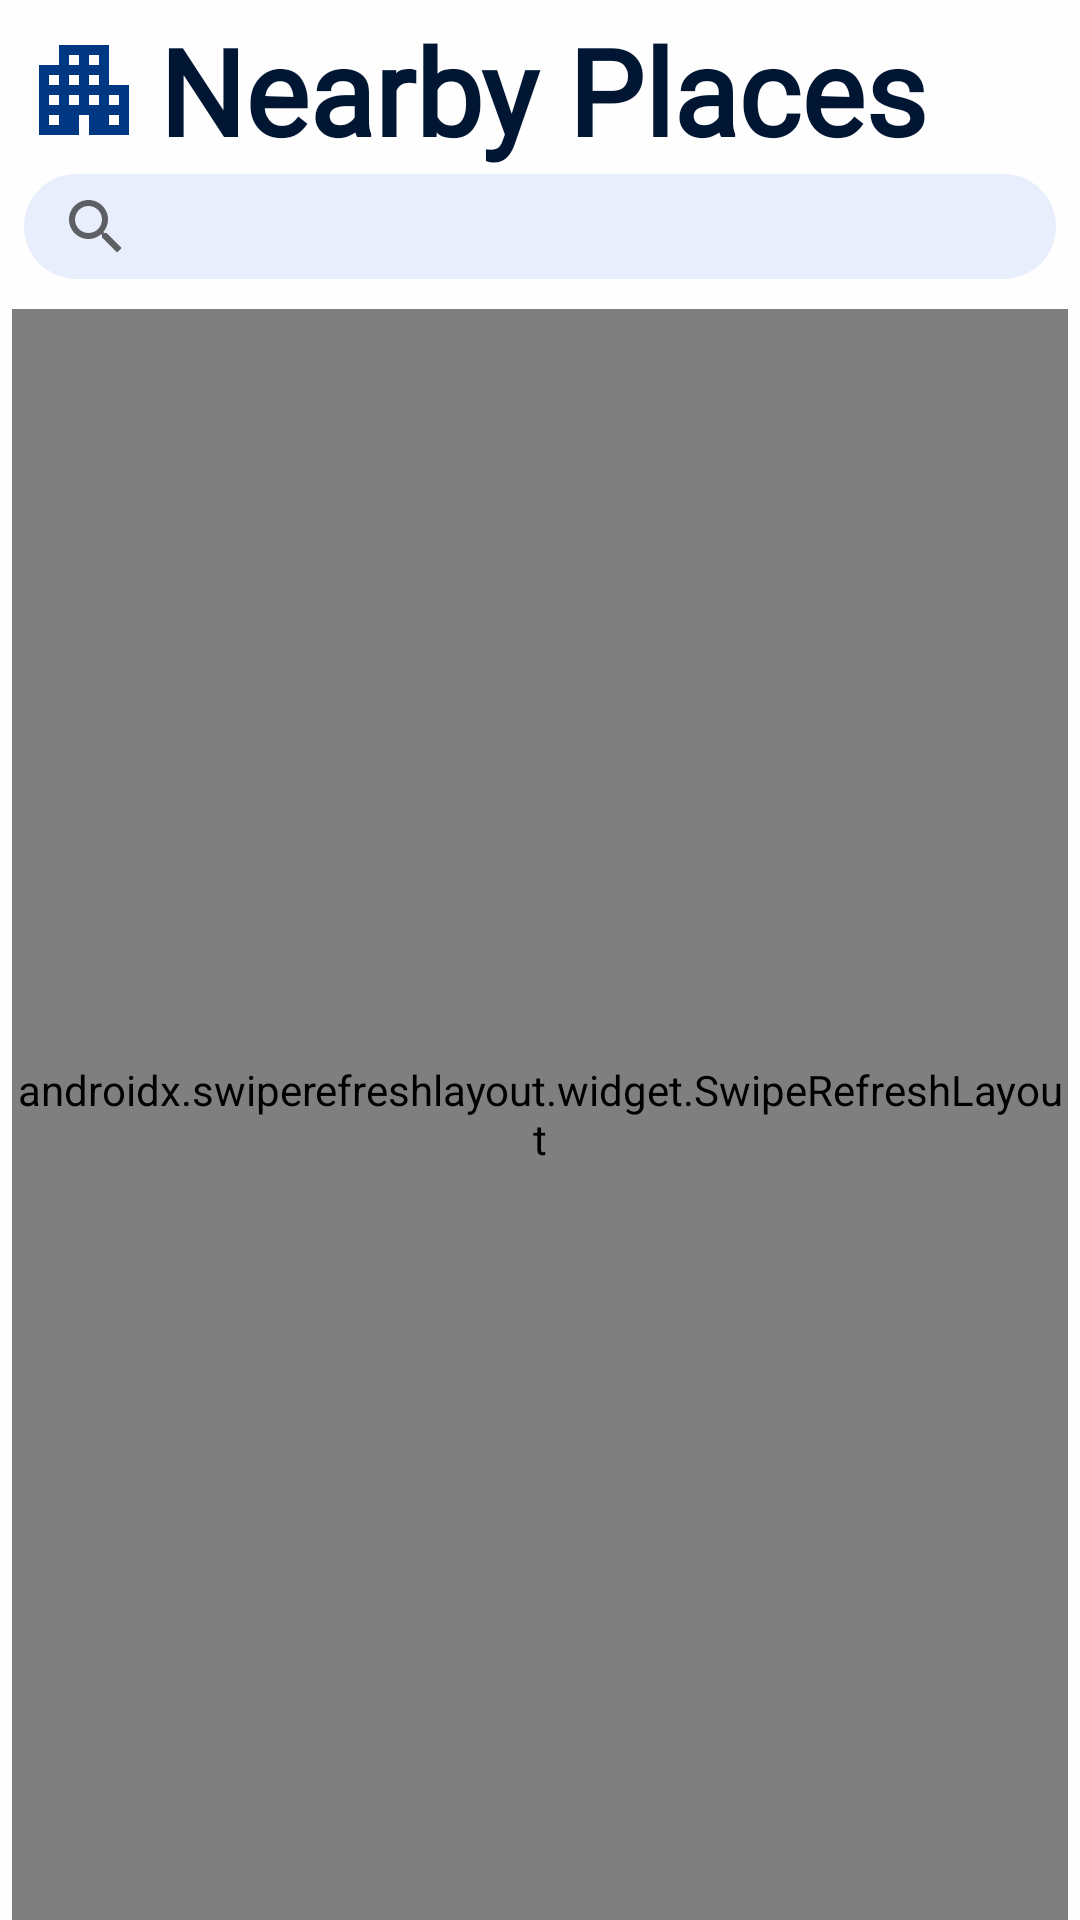

Icon click points for this 1080w x 1920h phone screenshot, format point (x, y):
apartment: point (84, 90)
